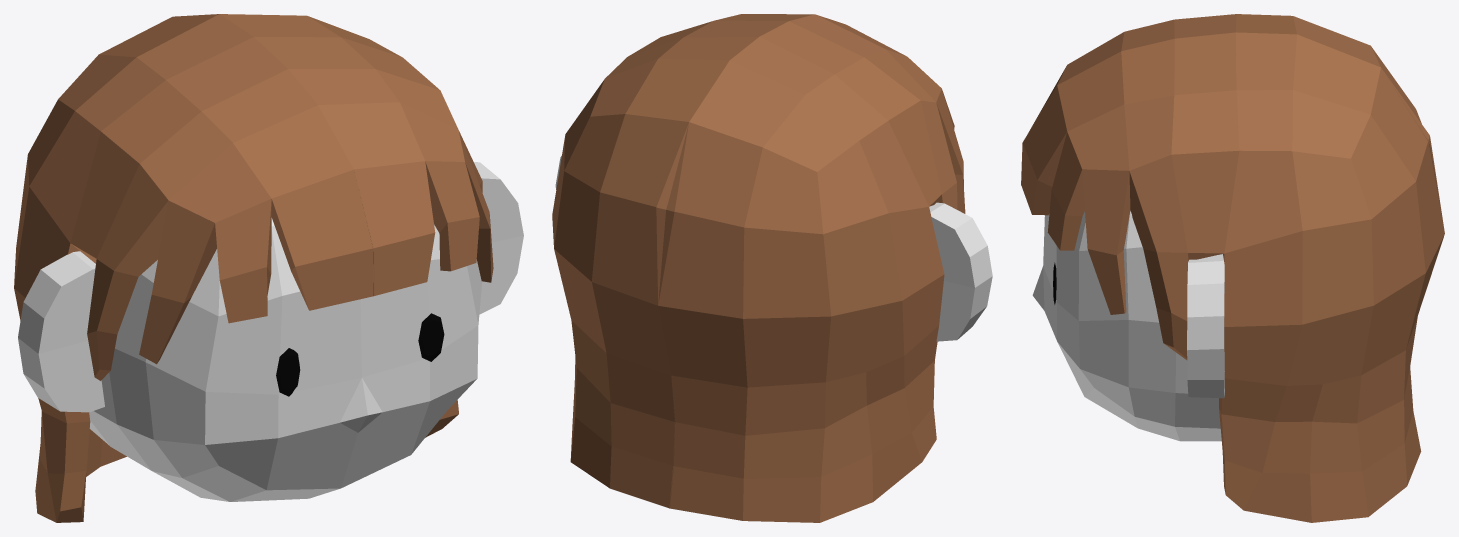
The model's file is playerB_woman_Head.fbx.
The picture shows the model from 3 angles, left to right: view 1: azimuth 30°, elevation 25°; view 2: azimuth 150°, elevation 25°; view 3: azimuth 270°, elevation 25°; orthographic projection. The views are drawn at different scales.
Parts seen in each view (by area): view 1: Hair, Head, eyes; view 2: Hair, Head; view 3: Hair, Head.
Part boxes in pixels (box(x1,y1,x2,y2)): Hair: box(14, 14, 493, 522); Head: box(18, 162, 523, 501); eyes: box(276, 313, 444, 396); Hair: box(552, 14, 965, 522); Head: box(555, 155, 992, 341); Hair: box(1021, 14, 1444, 522); Head: box(1032, 211, 1224, 441).
Bounding box in the file's own units: 161 × 150 × 136.
